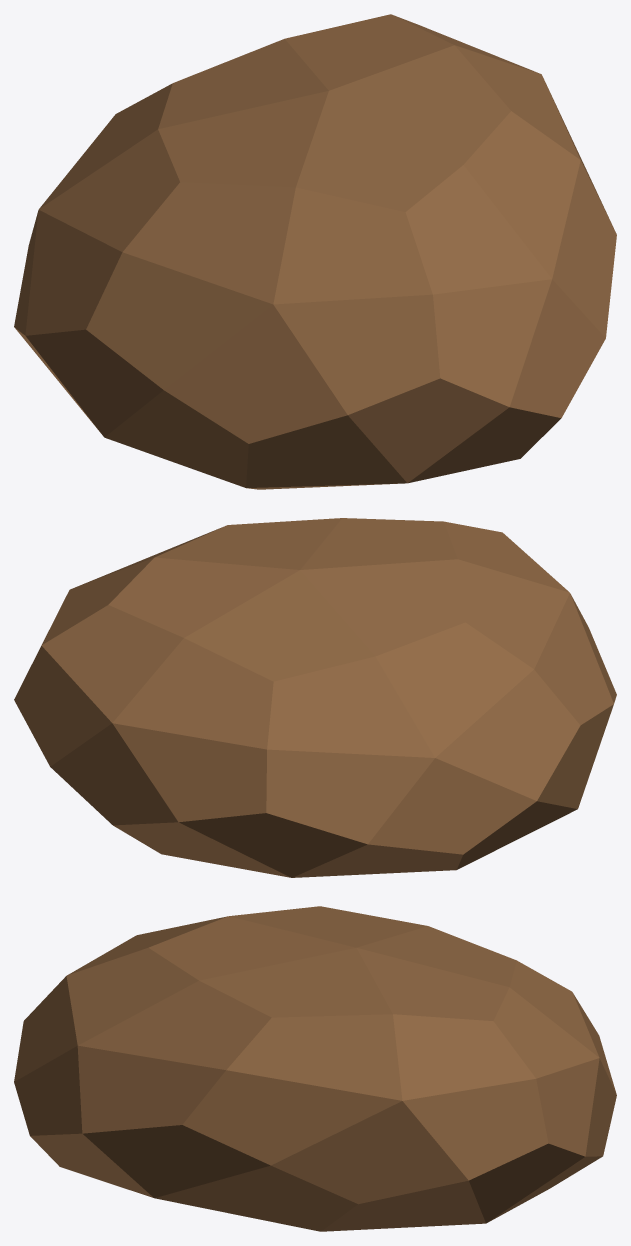
Rendered from Rock_2_Light_Brown.fbx.
3 views of the same model, one above another, from view 1: azimuth 30°, elevation 25°; view 2: azimuth 150°, elevation 25°; view 3: azimuth 270°, elevation 25° (orthographic). The views are drawn at different scales.
Visible parts, largest first — view 1: Rock_2_Light_Brown; view 2: Rock_2_Light_Brown; view 3: Rock_2_Light_Brown.
Part boxes in pixels (box(x1,y1,x2,y2)): Rock_2_Light_Brown: box(14, 14, 616, 489); Rock_2_Light_Brown: box(14, 518, 616, 877); Rock_2_Light_Brown: box(14, 906, 616, 1231).
Bounding box in the file's own units: 157 × 78.08 × 178.
